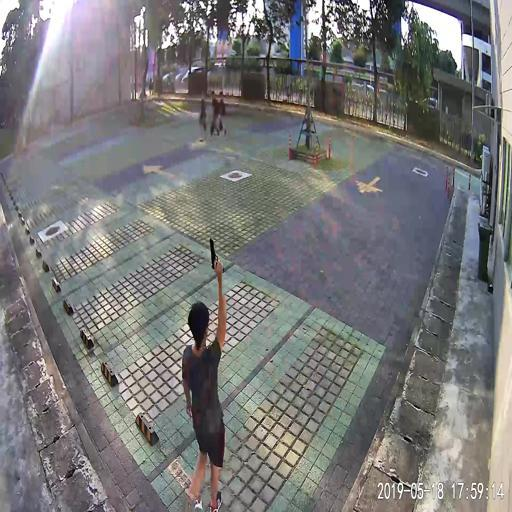Handgun: (208, 235, 223, 273)
